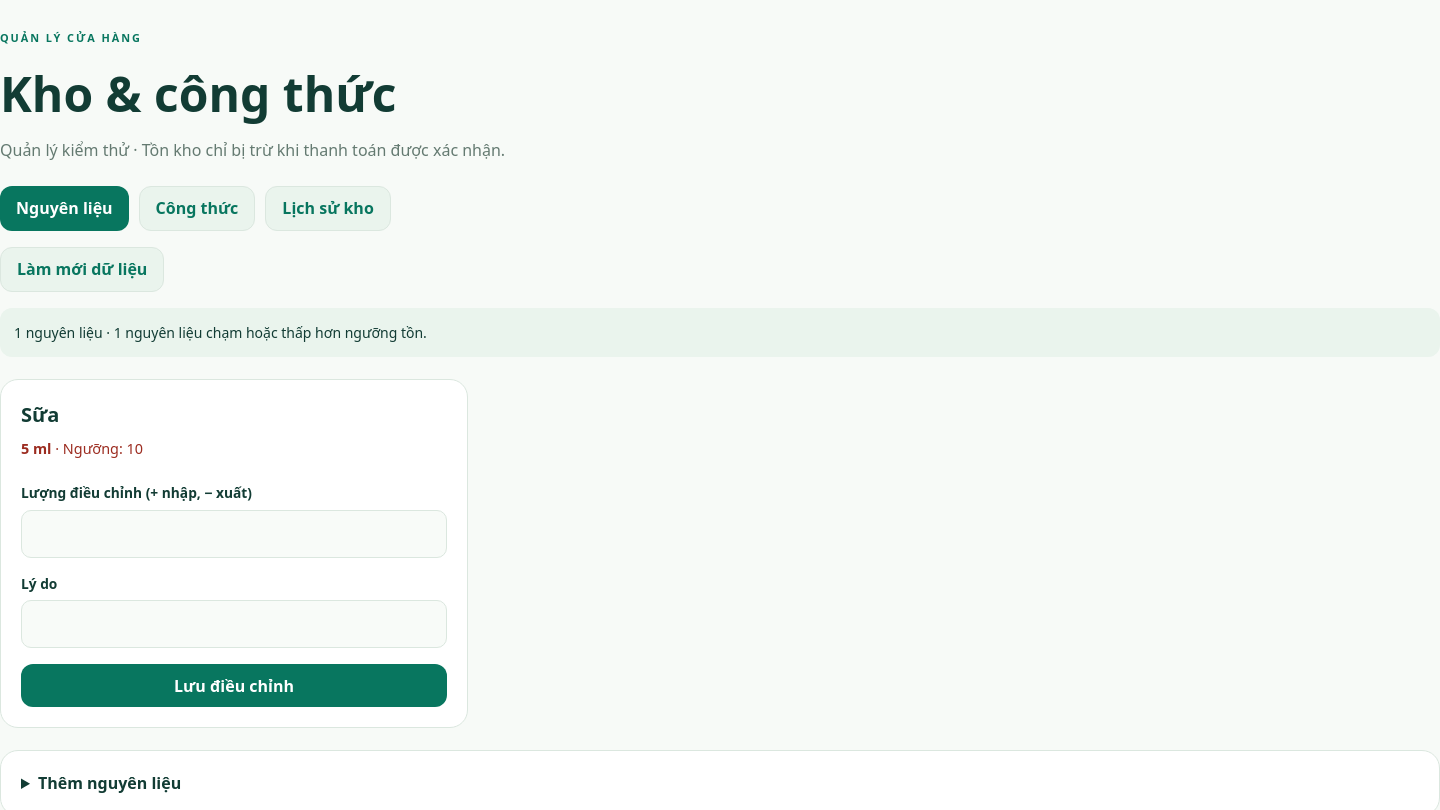
Test: Manager inventory UI › shows restoration history with actor and related order
Expected: the heading "Sữa" is shown, [21,401,59,428]
What coordinates should you click on to do the following:
click the button "Lịch sử kho"
I would click on:
 (328, 208)
Its box is [265,186,391,231].
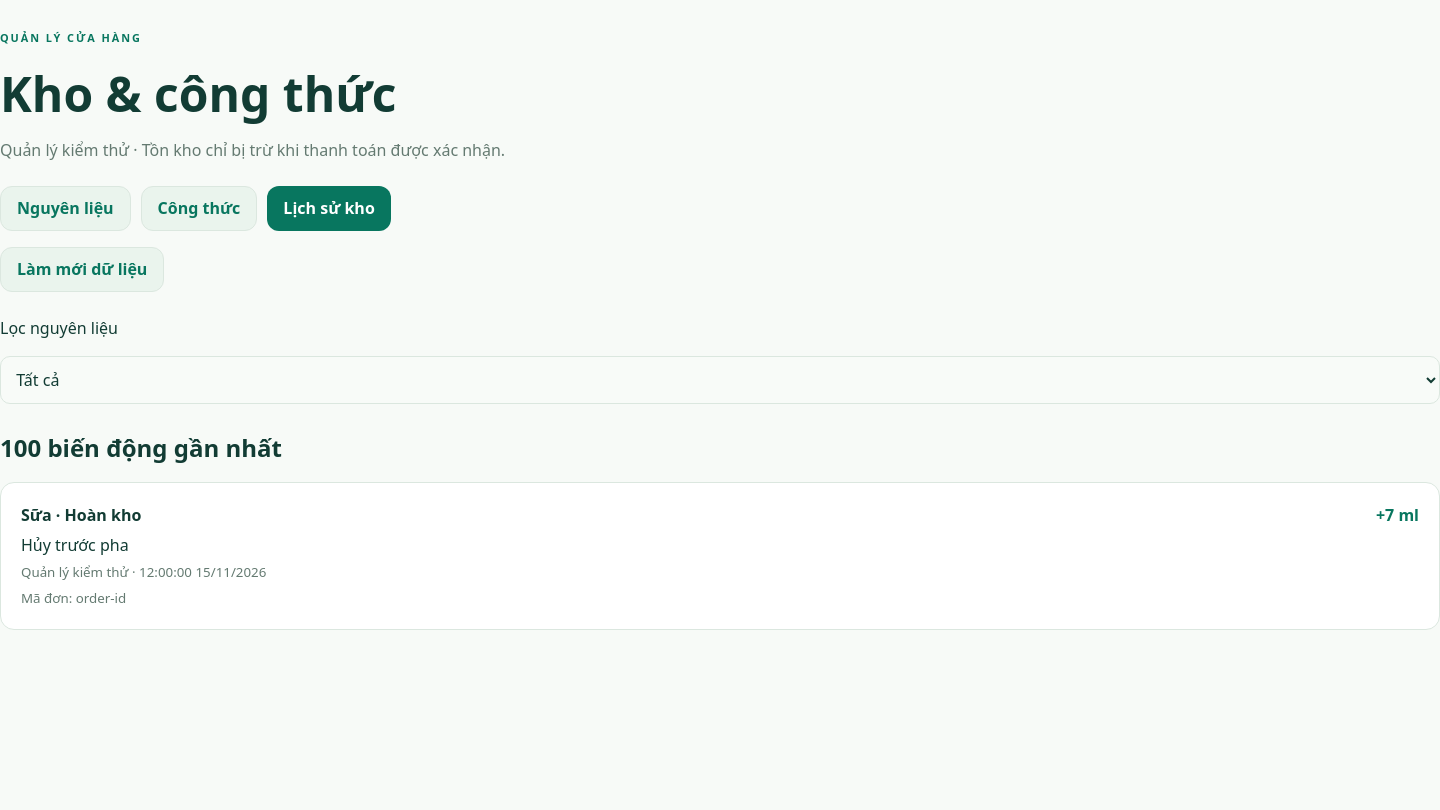
Now the text "Sữa · Hoàn kho" is shown, box [21,504,141,526]
Now the text "Mã đơn: order-id" is shown, box [21,589,126,607]
Now the text "Hủy trước pha" is shown, box [21,534,129,556]
